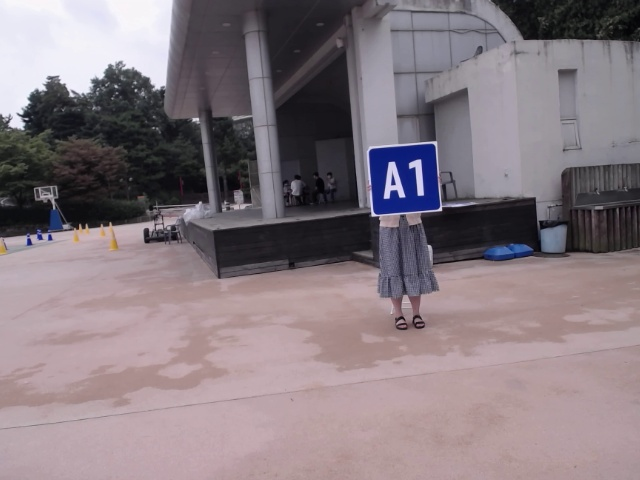delivery_a1: (367, 141, 442, 216)
